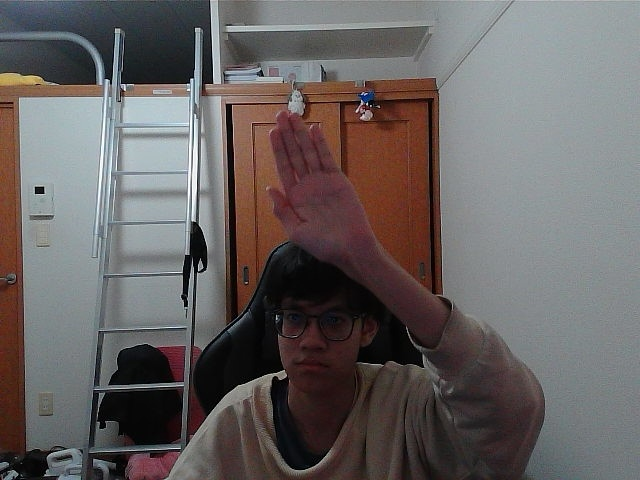open_palm: (272, 119, 346, 248)
